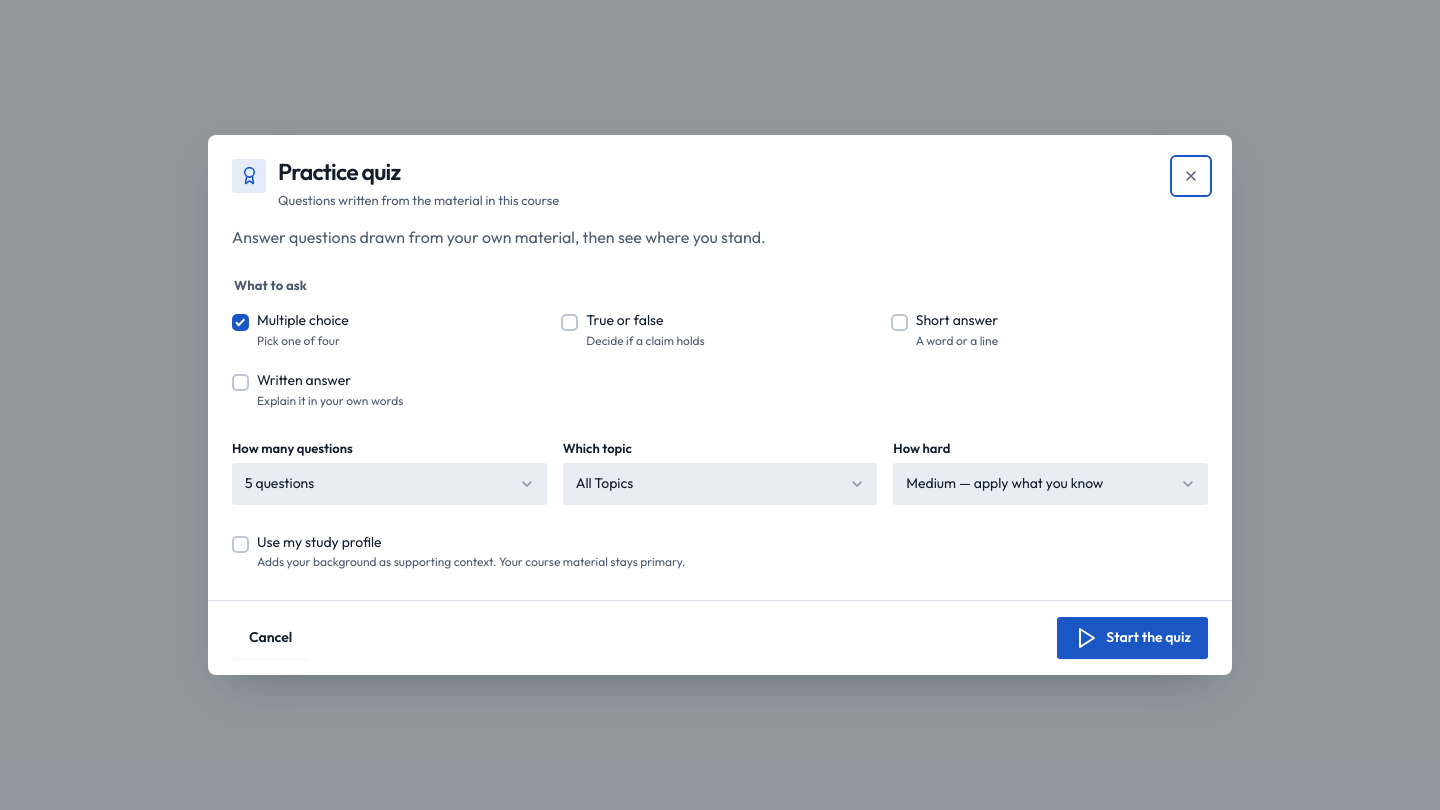
it: when the quiz cannot be written › says the model could not be reached, and that nothing was charged
Click the button "Start the quiz". click: {"x": 1133, "y": 638}
box: [1057, 617, 1208, 659]
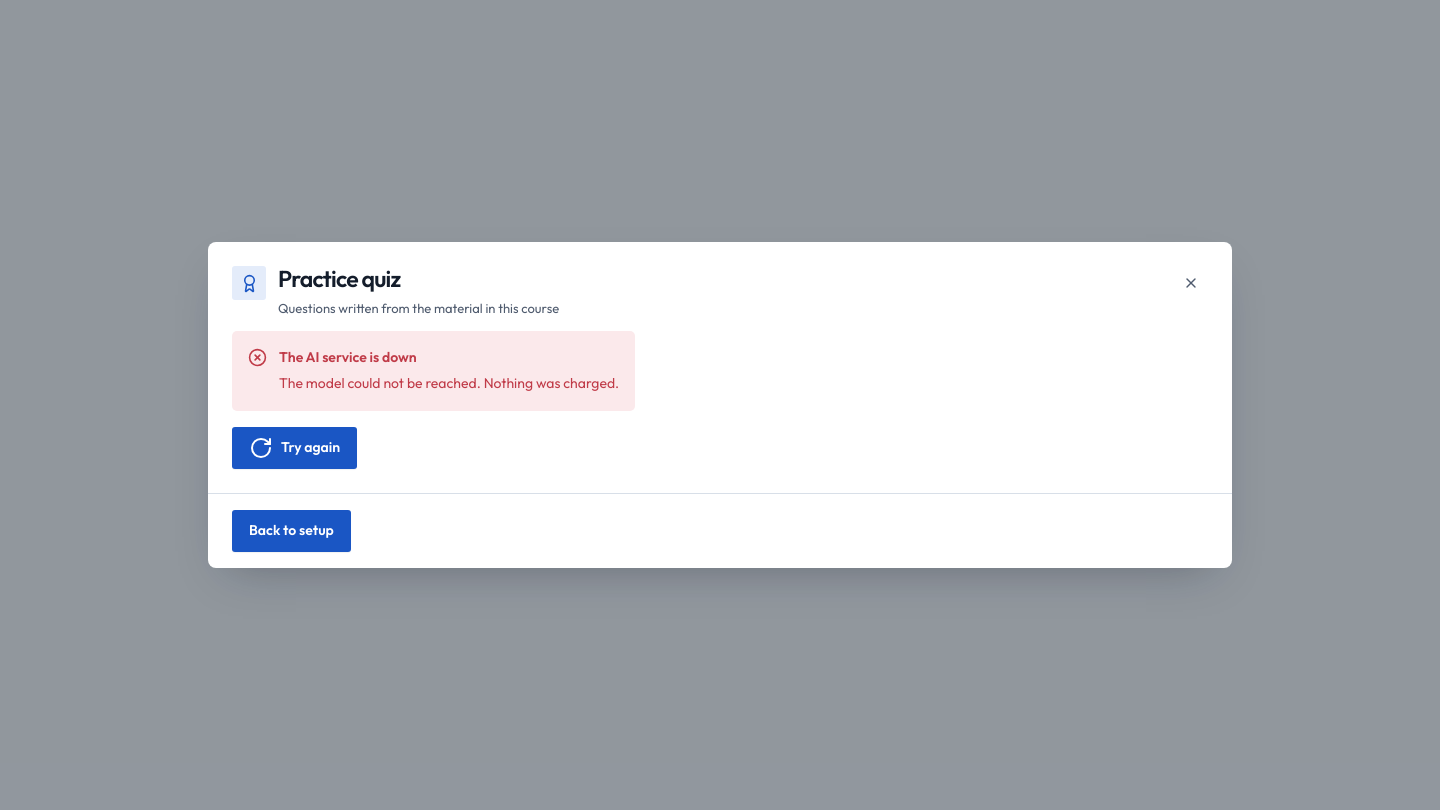
Now the text "The AI service is down" is shown, box [279, 348, 417, 366]
Now the text "The model could not be reached. Nothing was charged." is shown, box [279, 373, 619, 395]
Now the button "Try again" is shown, box [232, 427, 357, 469]
